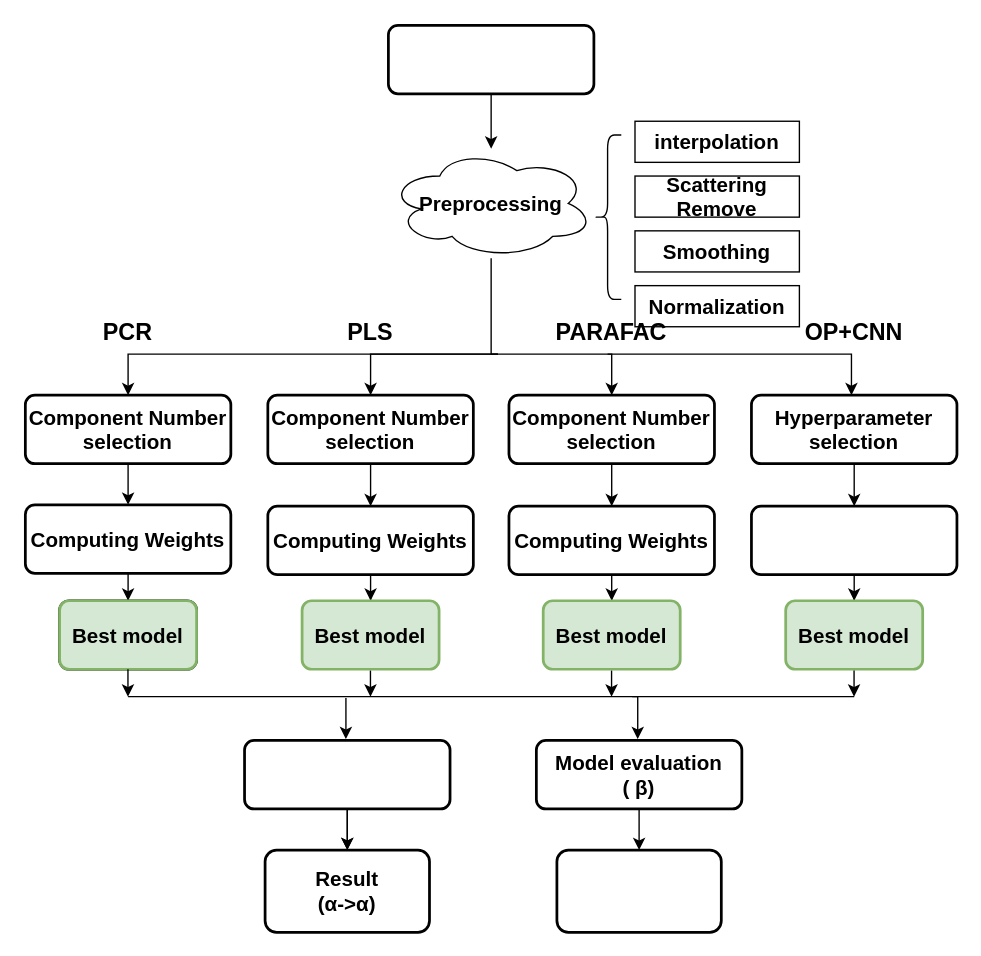
The diagram is 981 pixels wide and 956 high, and some of its shapes have lost their labels. The centre of each missing label's shape, as x and y in pixels:
Data Input (α）: the point at 490,59
Model evaluation ( α)(Cross Validation): the point at 346,774
Result (α->β): the point at 638,890
Training Network: the point at 853,539
